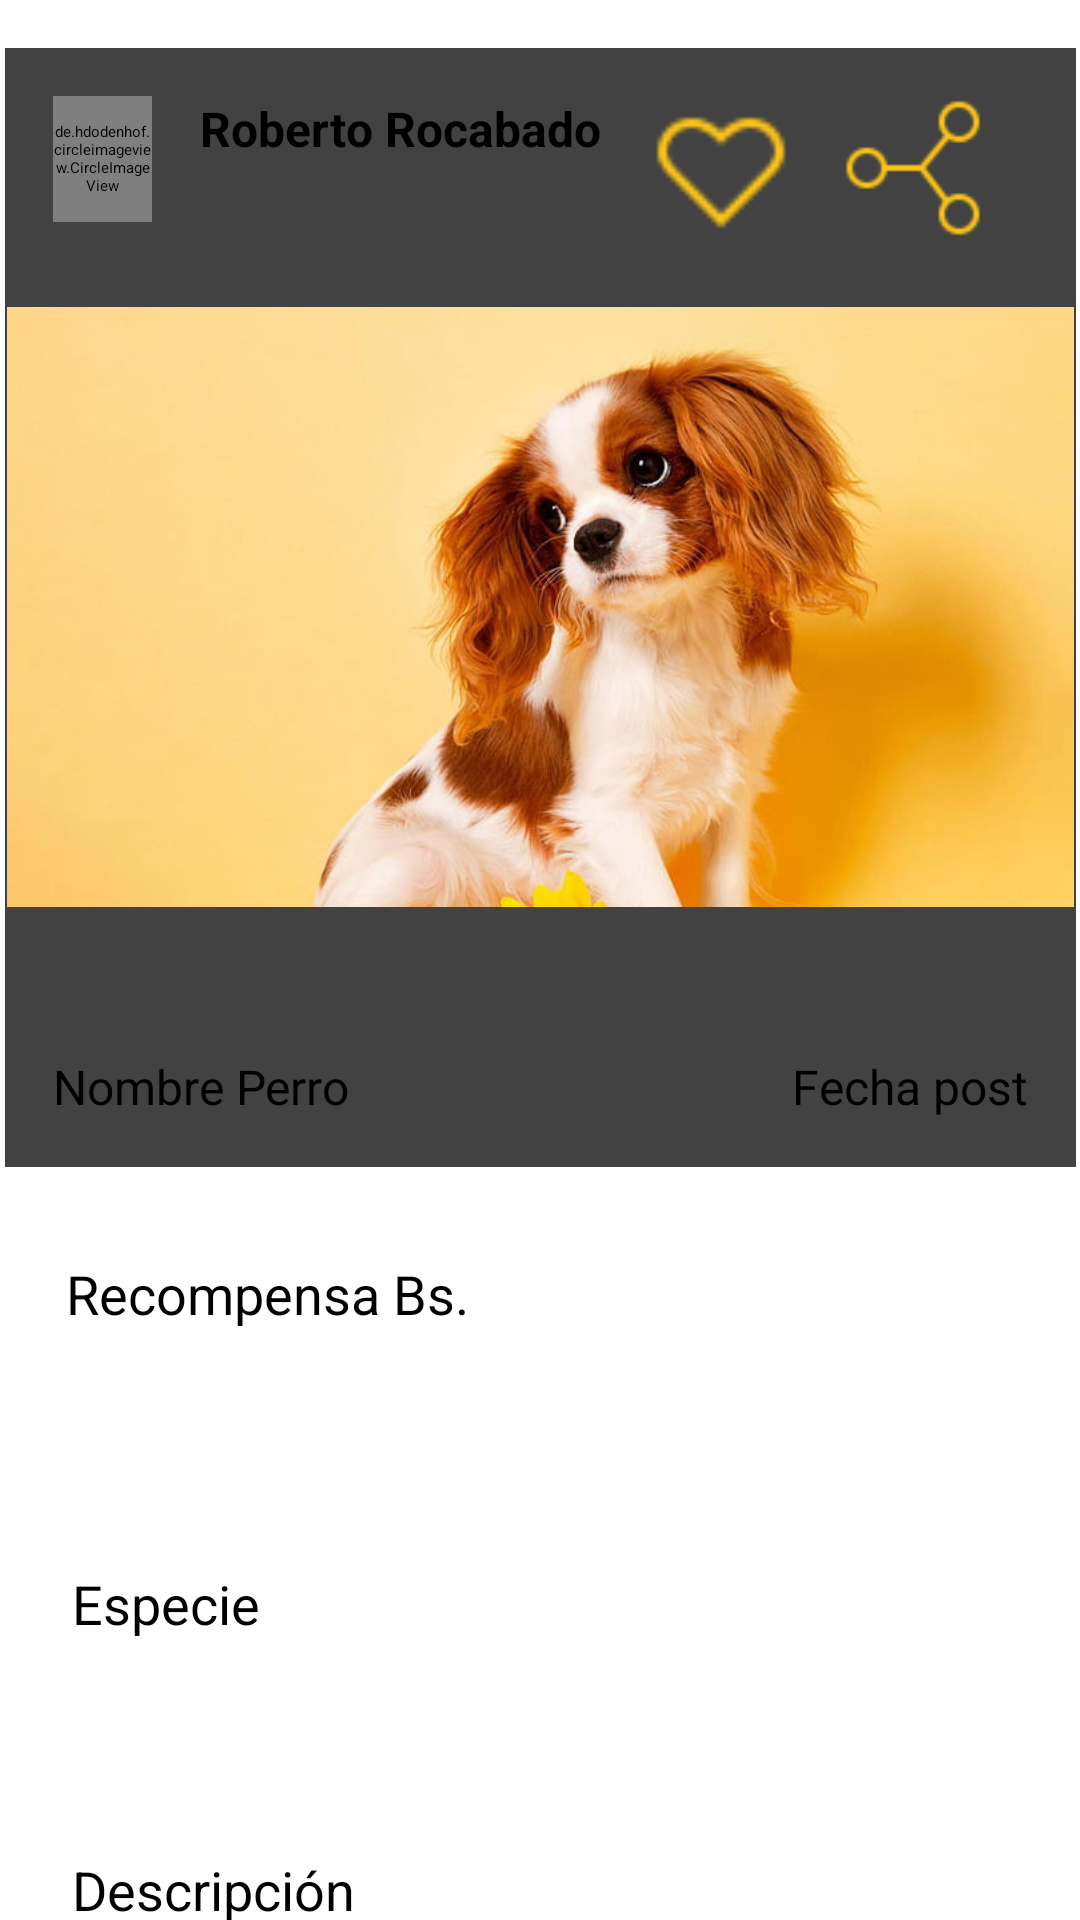

Named icons in this screenshot (1080px x 1920px) and their centers, point (x, y):
love: point (721, 172)
share: point (913, 168)
